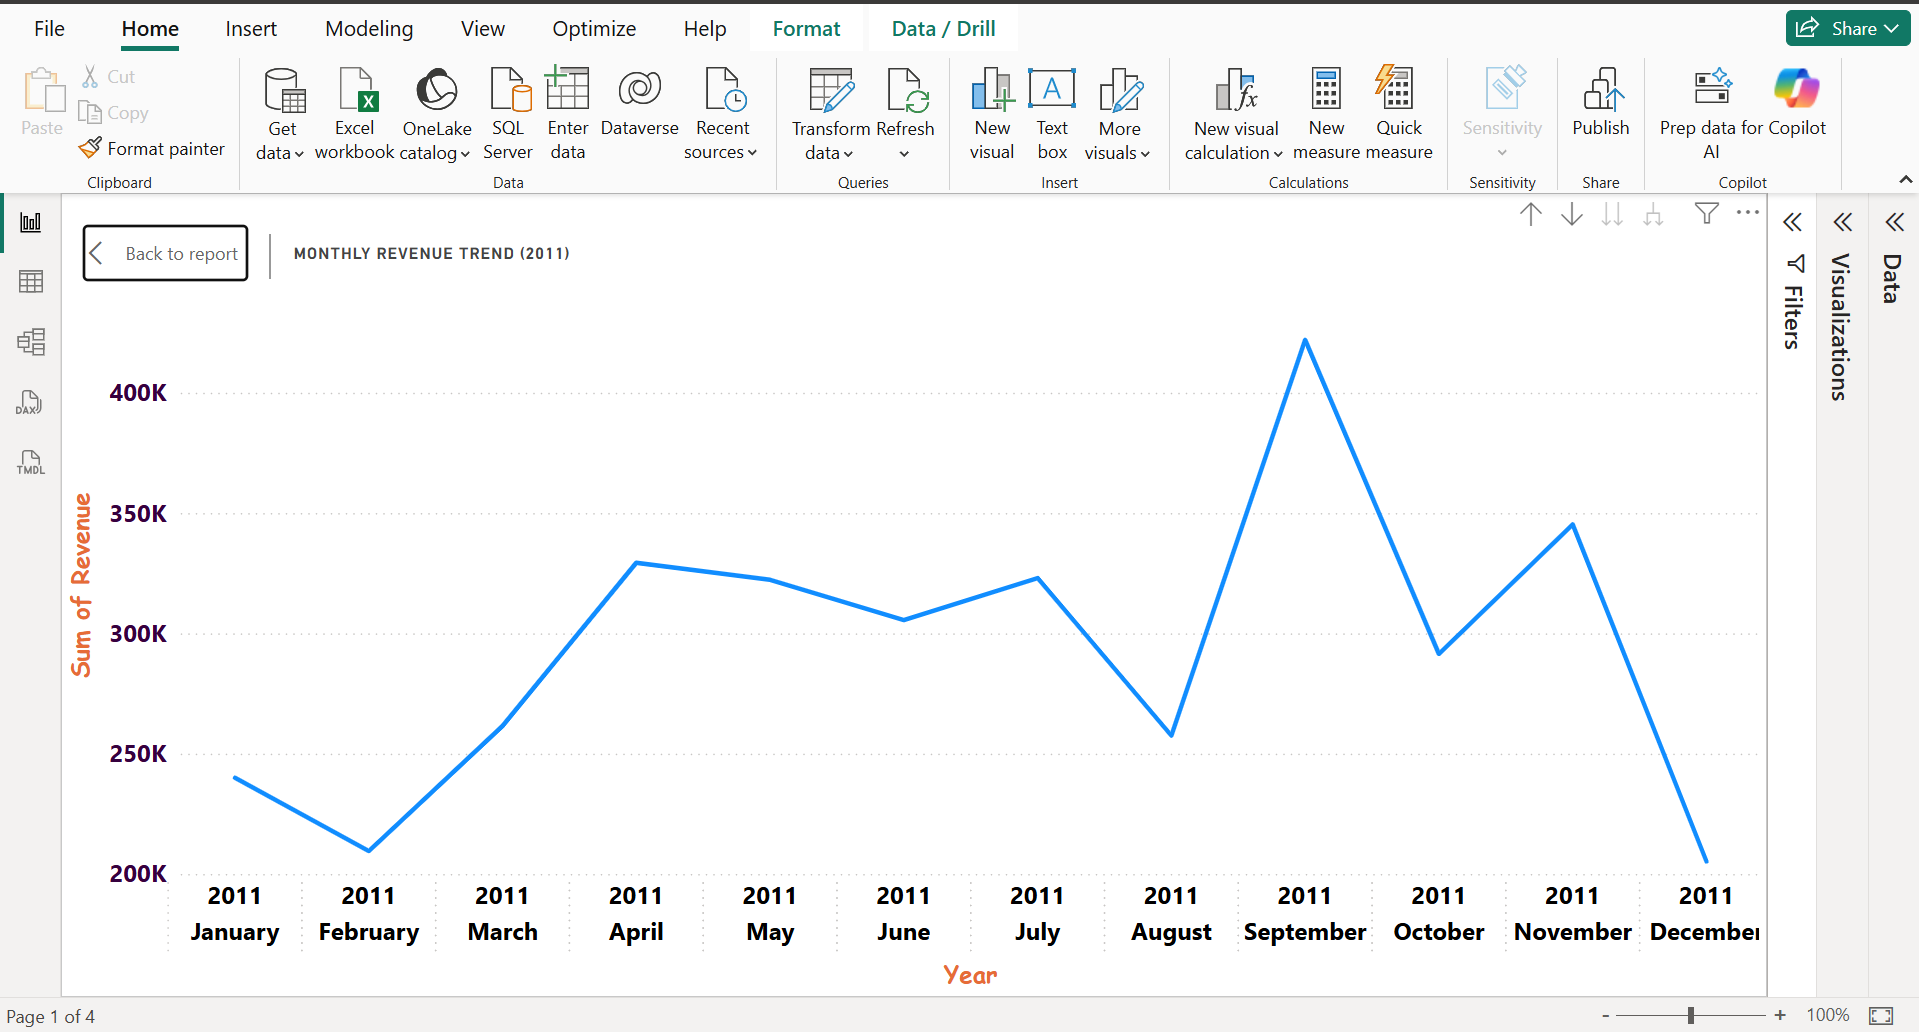

The page's visual inventory and layout, read from the dashboard file:
{"tool":"powerbi","page":{"name":"Q1","canvas":[1280,720],"ordinal":0},"visuals":[{"type":"lineChart","title":"Monthly Revenue Trend (2011)","fields":{"Category":["Online Retail Data Set.InvoiceDate.Variation.Date Hierarchy.Month","Online Retail Data Set.InvoiceDate.Variation.Date Hierarchy.Year"],"Y":["Sum(Online Retail Data Set.Revenue)"]},"box":[81.3,35.9,1137.6,646.3],"z":0}]}

Visuals, with their boxes on the page's 1280x720 design canvas (x1, y1, x2, y2). These are canvas units, not pixel positions in the 1919x1032 screenshot, which may show the page scaled, cropped or inside an application window:
"Monthly Revenue Trend (2011)" lineChart: detection(81, 36, 1219, 682)
